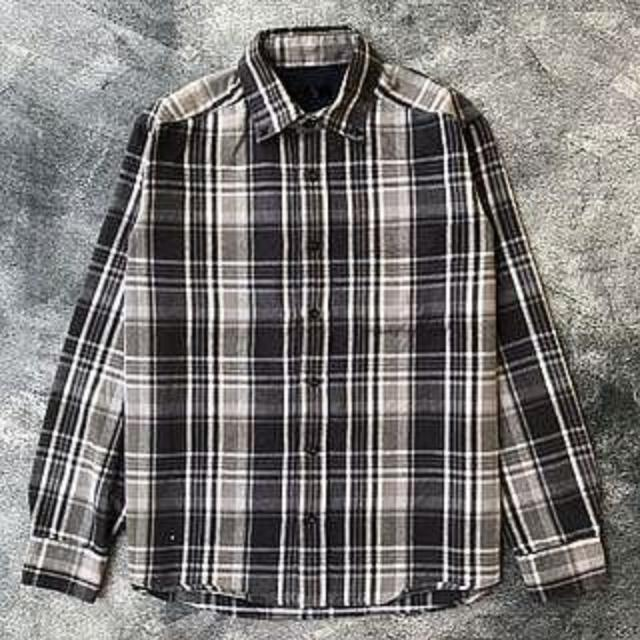SHIRT: (11, 11, 637, 626)
